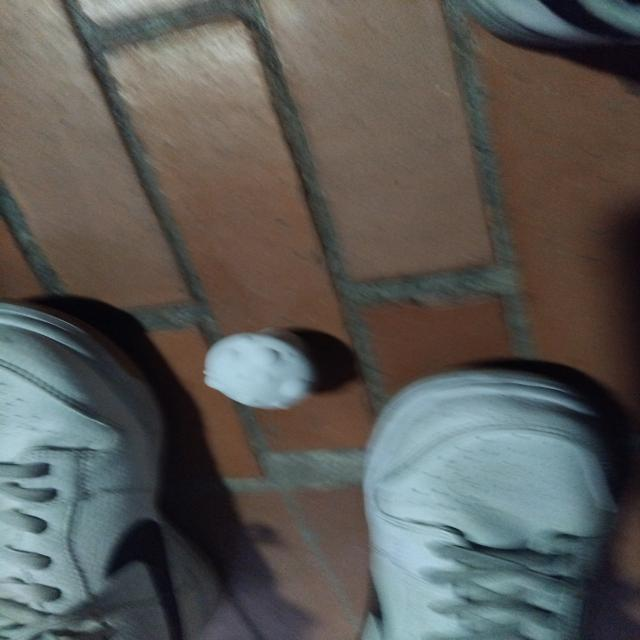Hongo: (188, 328, 330, 420)
